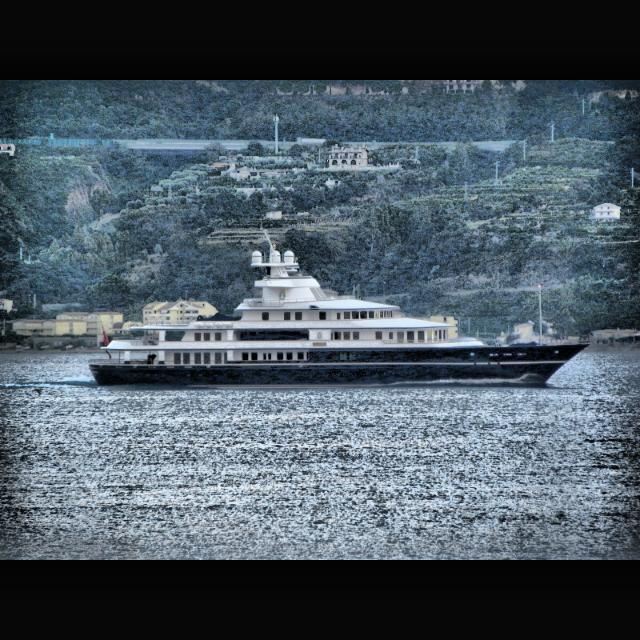yacht: (88, 245, 592, 388)
